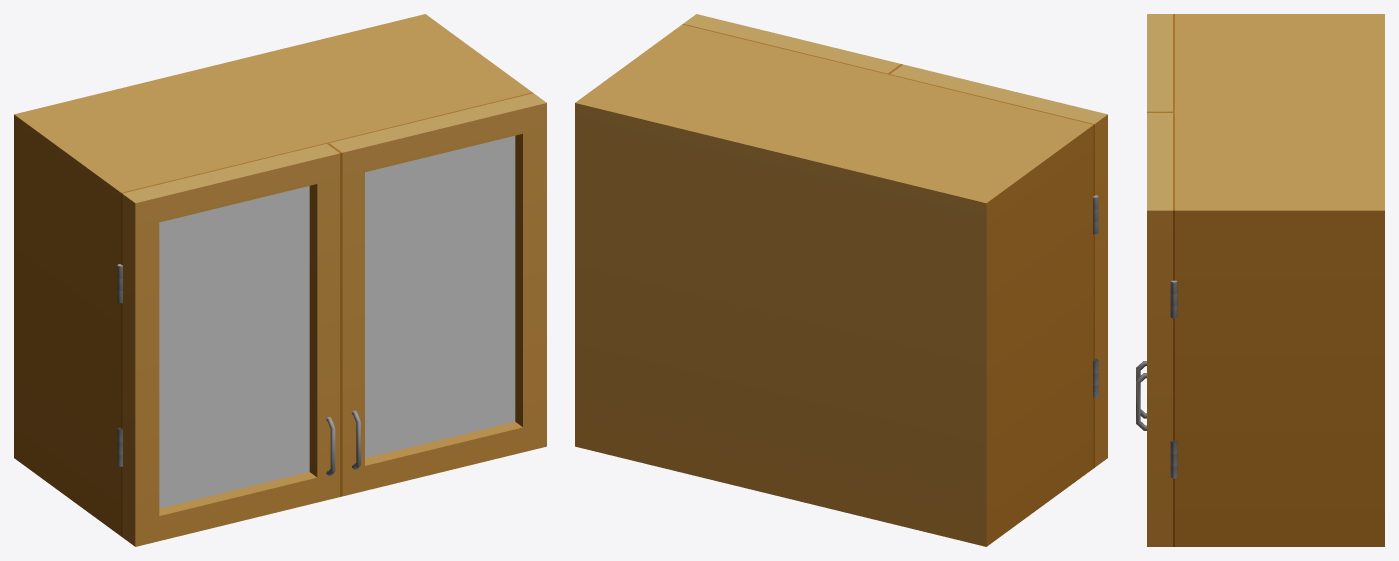
The model's file is CR_sci_Cabinet_001.FBX.
The picture shows the model from 3 angles, left to right: view 1: azimuth 30°, elevation 25°; view 2: azimuth 150°, elevation 25°; view 3: azimuth 270°, elevation 25°; orthographic projection. The views are drawn at different scales.
Parts seen in each view (by area): view 1: CR_sci_Cabinet_001, CR_sci_Cabinet_001_al; view 2: CR_sci_Cabinet_001; view 3: CR_sci_Cabinet_001.
Boxes of the visible parts, x1=… form: CR_sci_Cabinet_001: x1=14, y1=14, x2=546, y2=546; CR_sci_Cabinet_001_al: x1=159, y1=136, x2=515, y2=508; CR_sci_Cabinet_001: x1=575, y1=14, x2=1107, y2=546; CR_sci_Cabinet_001: x1=1136, y1=14, x2=1384, y2=546.
Size of the model in its own units: 64.49 by 50.38 by 33.79.
